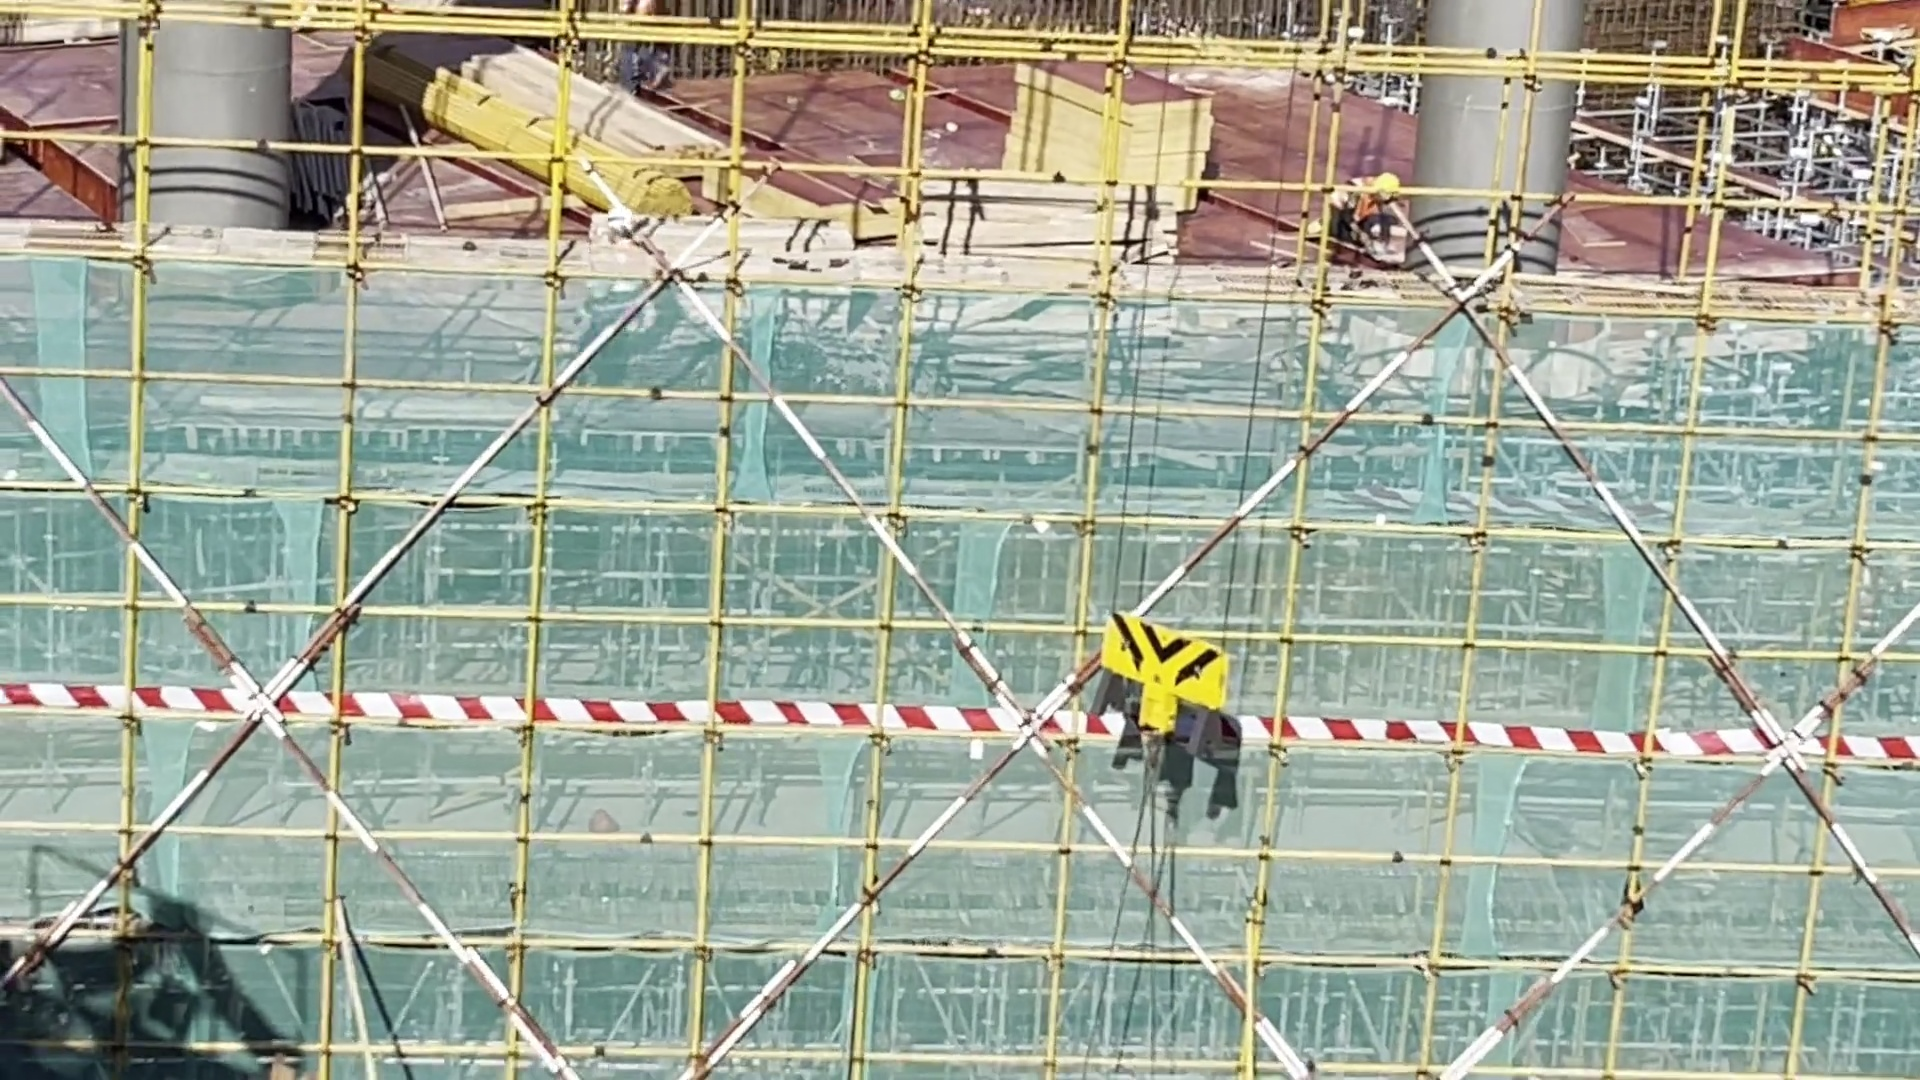board: (998, 62, 1220, 210)
hook: (1101, 607, 1223, 758)
person: (1321, 160, 1405, 249)
wood: (401, 26, 731, 235)
